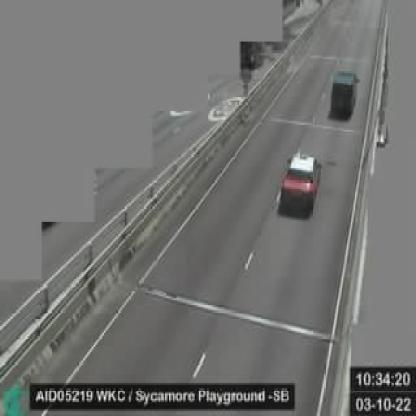Car: (278, 152, 320, 212), (330, 71, 356, 118)
